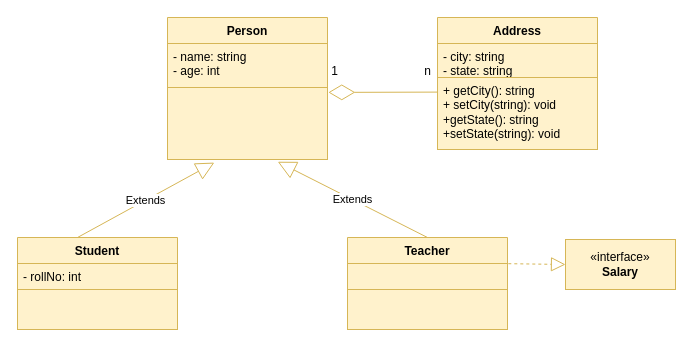
Some shapes in this 693 by 350 pixel diagram are drawn without their labels. Each missing label, with the centre of its shape:
+ getEmpId(): int +setEmpId(int): void: (427,309)
+ getName(): string +setName(string): void +getAge(): int +setAge(int): void: (247,123)
+ getRollNo(): int +setRollNo(int): void: (97,309)
- empId: int: (427,276)
